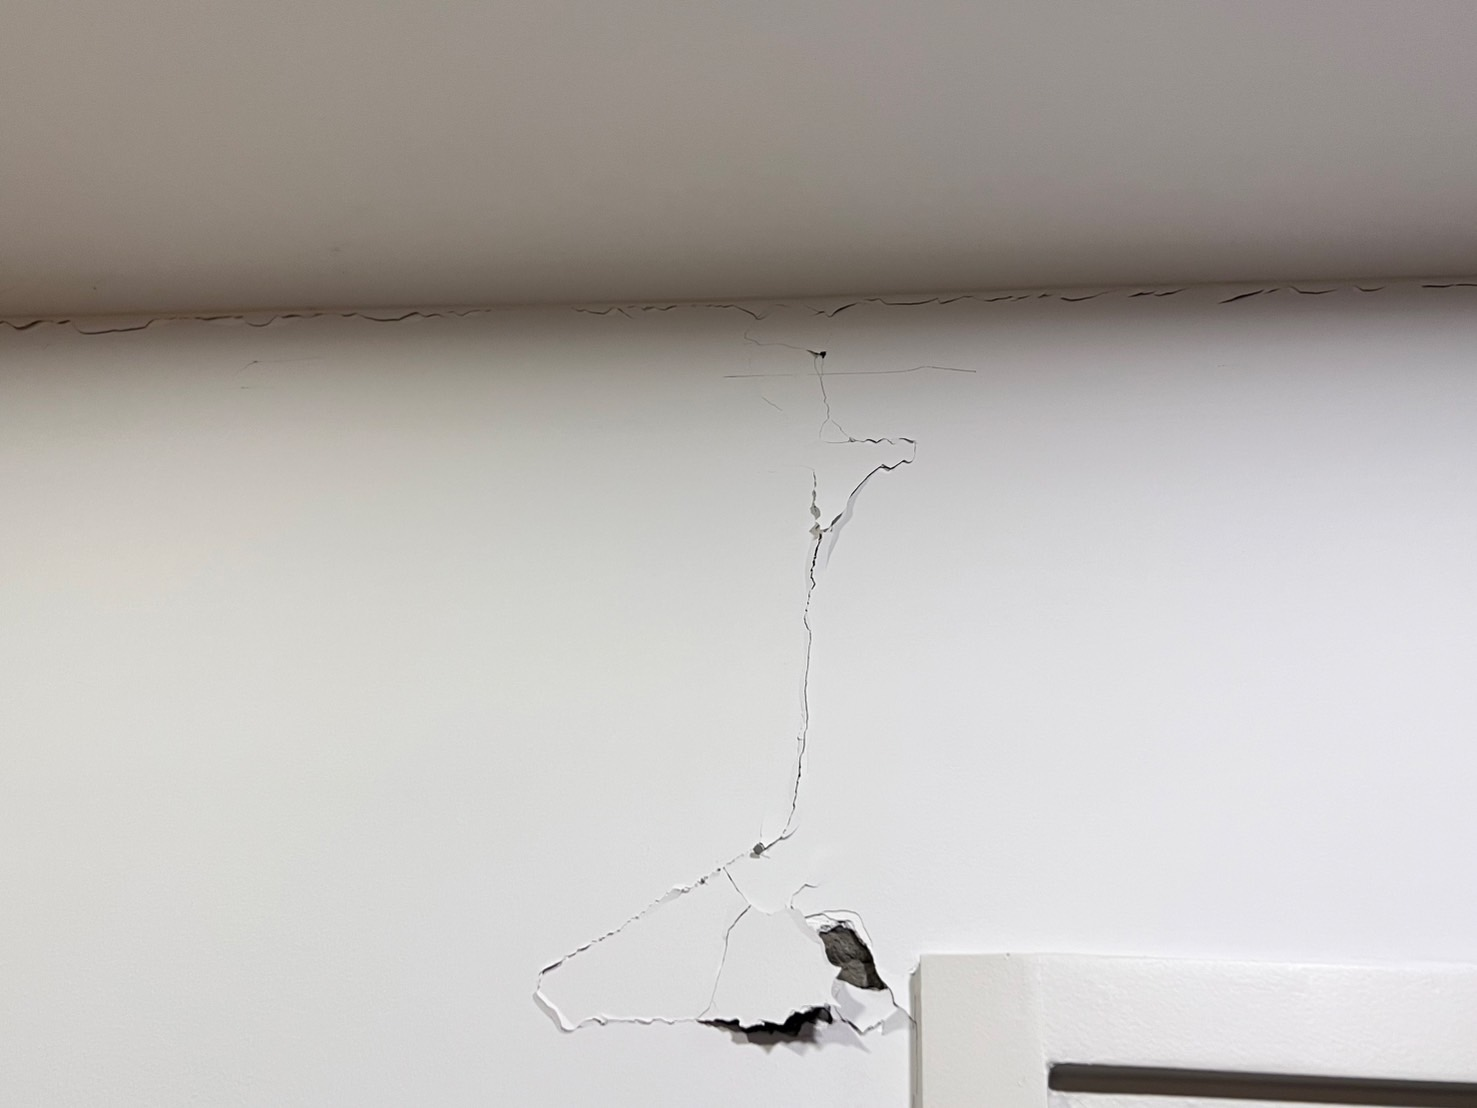Medium: (697, 392, 919, 1061)
